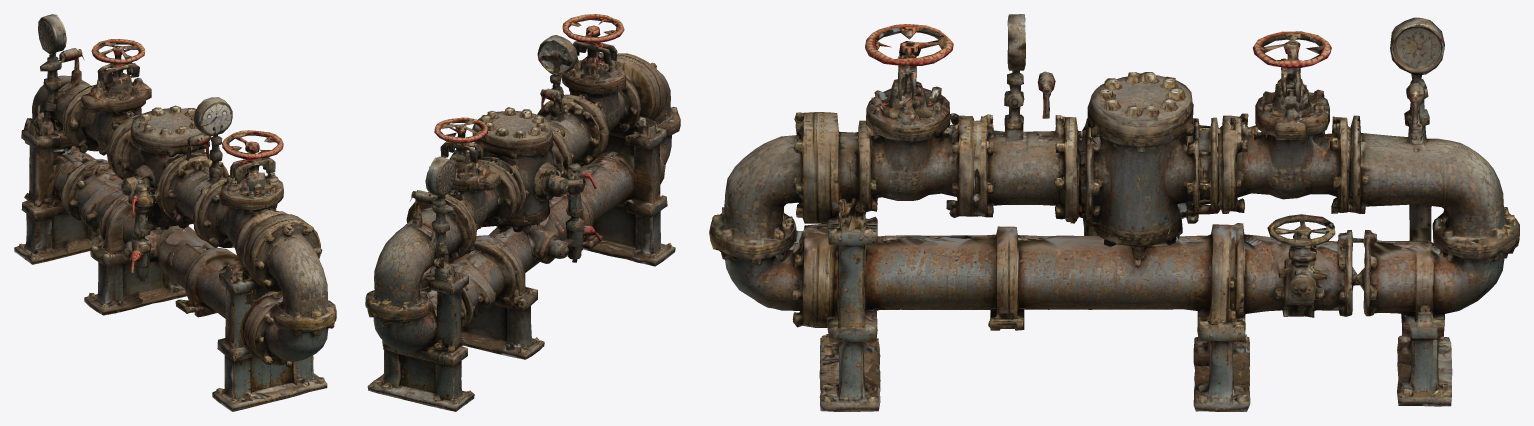
File: BK_Pipes.fbx
3 views of the same model, side by side, from view 1: azimuth 30°, elevation 25°; view 2: azimuth 150°, elevation 25°; view 3: azimuth 270°, elevation 25° (orthographic). The views are drawn at different scales.
Parts seen in each view (by area): view 1: texture_mapping; view 2: texture_mapping; view 3: texture_mapping.
Part boxes in pixels (bbox=[...]): texture_mapping: bbox=[14, 14, 336, 411]; texture_mapping: bbox=[365, 14, 680, 411]; texture_mapping: bbox=[709, 14, 1519, 411].
Size of the model in its own units: 0.2334 by 0.998 by 0.4921.
Materials: 1 (1 with a texture image).
